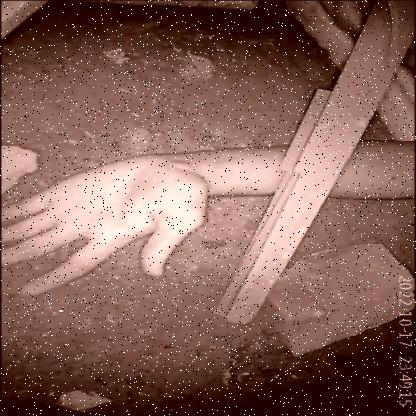hand: (0, 134, 314, 310)
